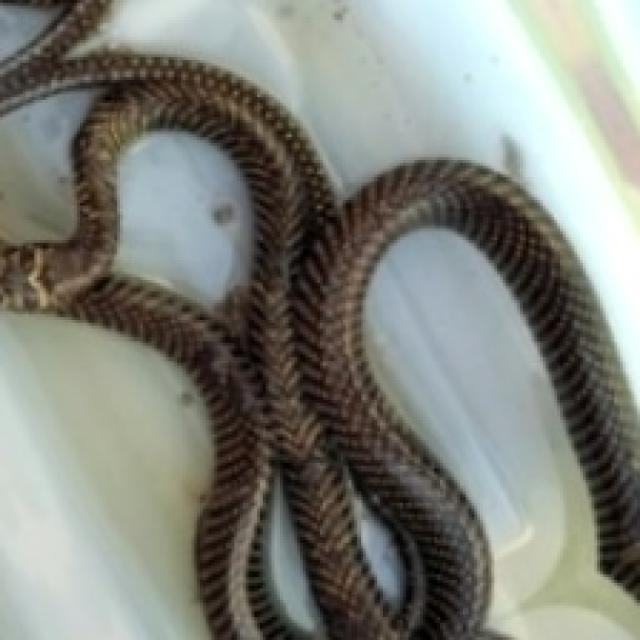paradise tree snake: (0, 0, 637, 397), (343, 163, 637, 580), (374, 231, 529, 514), (3, 423, 197, 617), (526, 423, 637, 634), (243, 289, 294, 414), (489, 554, 551, 623), (520, 354, 546, 394), (11, 523, 54, 537), (137, 503, 174, 517)
